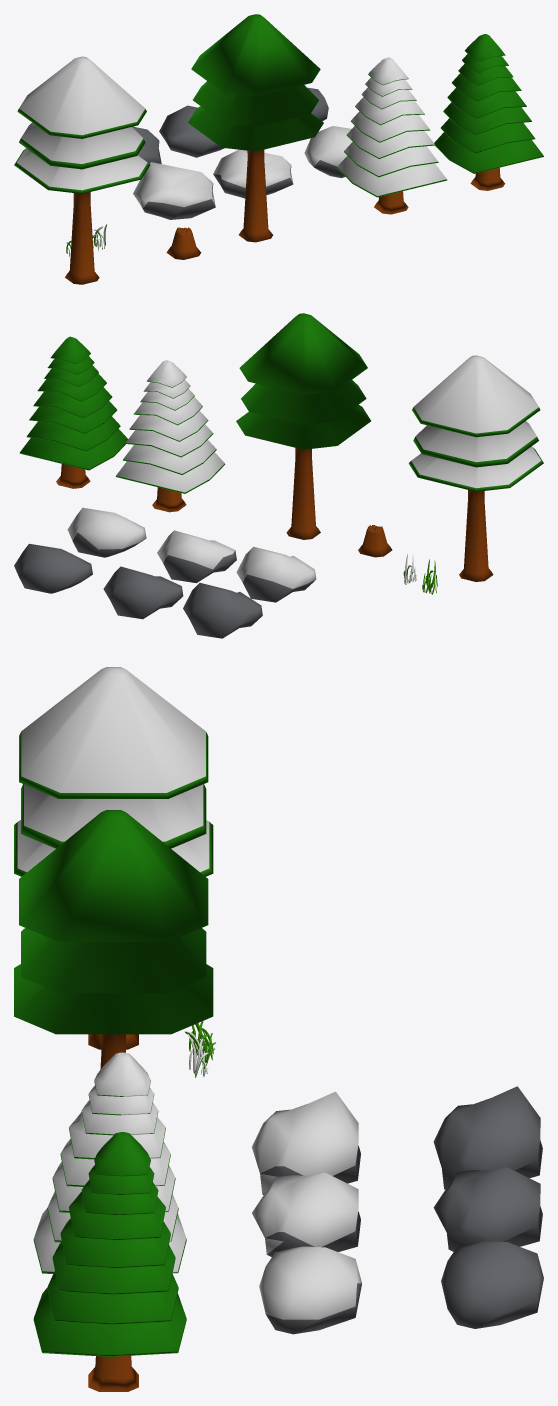
File: treesC01.glb
3 views of the same model, one above another, from view 1: azimuth 30°, elevation 25°; view 2: azimuth 150°, elevation 25°; view 3: azimuth 270°, elevation 25° (orthographic). The views are drawn at different scales.
Parts seen in each view (by area): view 1: Tree.001, Tree, Cube.002, Cube.000, Icosphere.001, Icosphere, CutTrunk; view 2: Tree.001, Tree, Cube.000, Cube.002, Icosphere, Icosphere.001, CutTrunk; view 3: Tree, Tree.001, Cube.000, Icosphere, Icosphere.001, Cube.002.
Boxes of the visible parts, bbox=[...] form: Tree.001: bbox=[14, 56, 150, 284]; Tree: bbox=[188, 14, 323, 242]; Cube.002: bbox=[337, 57, 447, 214]; Cube.000: bbox=[434, 34, 543, 190]; Icosphere.001: bbox=[133, 126, 352, 219]; Icosphere: bbox=[132, 87, 328, 163]; CutTrunk: bbox=[166, 227, 201, 259]; Tree.001: bbox=[408, 355, 543, 581]; Tree: bbox=[236, 313, 370, 539]; Cube.000: bbox=[19, 336, 127, 488]; Cube.002: bbox=[115, 360, 225, 512]; Icosphere: bbox=[14, 543, 262, 638]; Icosphere.001: bbox=[67, 507, 316, 602]; CutTrunk: bbox=[358, 525, 392, 557]; Tree: bbox=[14, 810, 213, 1069]; Tree.001: bbox=[14, 667, 213, 1049]; Cube.000: bbox=[33, 1132, 186, 1391]; Icosphere: bbox=[433, 1086, 543, 1328]; Icosphere.001: bbox=[252, 1091, 361, 1334]; Cube.002: bbox=[33, 1052, 186, 1273].
Bounding box in the file's own units: 28.36 × 12.81 × 15.55.
